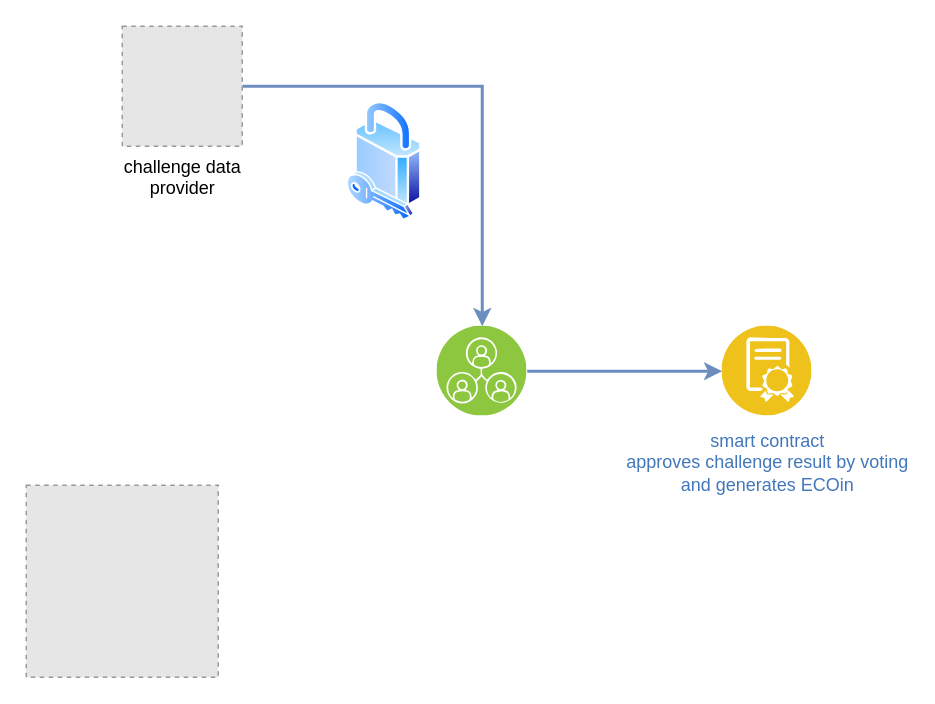
Some shapes in this 935 by 704 pixel diagram are drawn without their labels. Grey dashed boxes stand in for pictures. Each missing label, with the centre of its shape:
"challenge data secured by HSM" goes at (384,160).
"IPFS" goes at (481,371).
